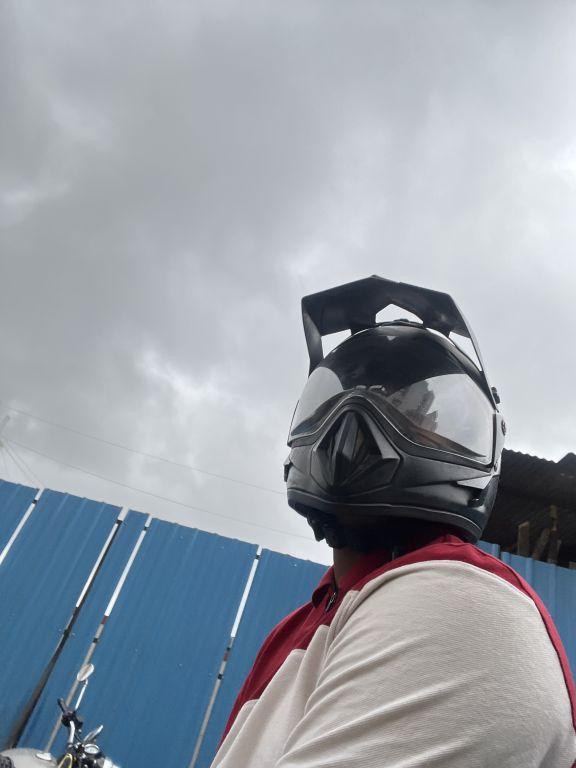helmet: (259, 267, 521, 561)
